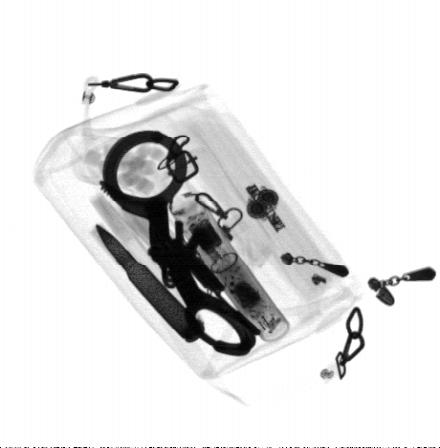Baton: (149, 171, 291, 344)
Bullet: (94, 221, 205, 343)
Gun: (145, 221, 262, 338)
HandCuffs: (99, 130, 254, 358)
